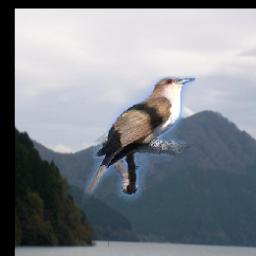Cuckoo: (79, 77, 195, 207)
